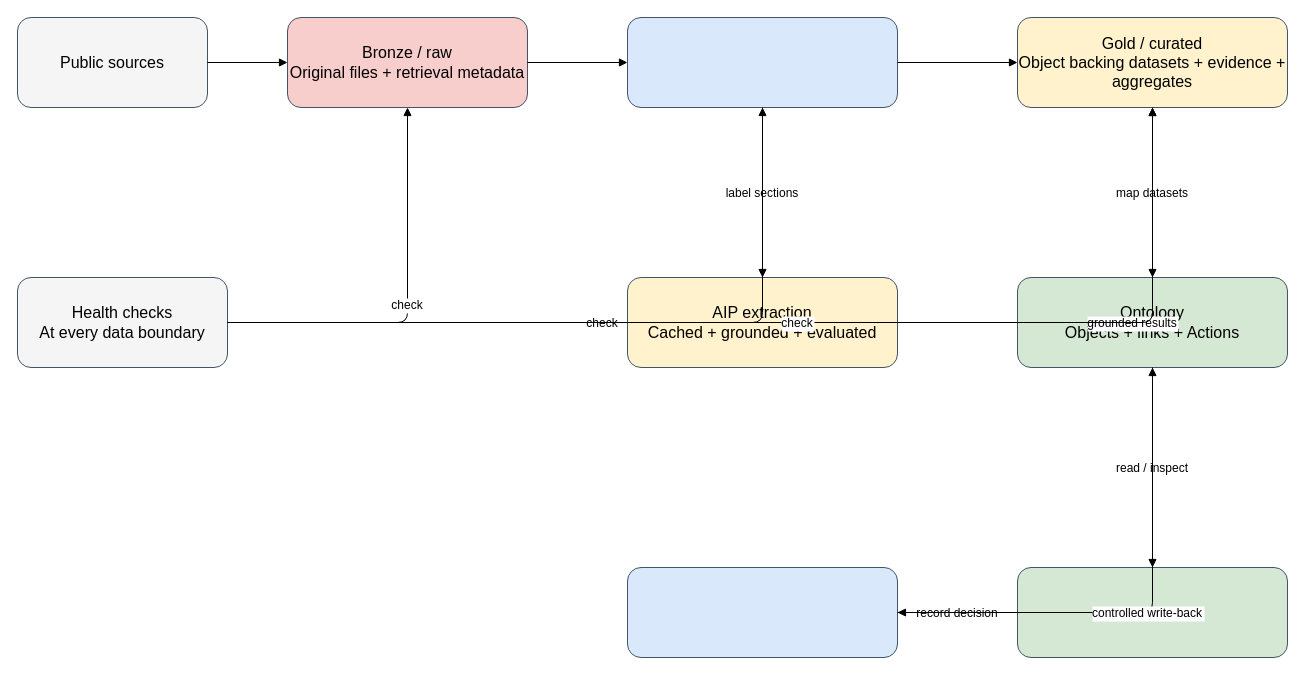
This 1305x675 diagram has some shape labels left out. Here are the shapes that lost their labels. From the top down, the centre of each, then its label:
pixel 762 62: Silver / clean Typed sources + shared identity + case state
pixel 762 612: Human triage TriageDecision Action
pixel 1152 612: Workshop Signals / recalls / changes
